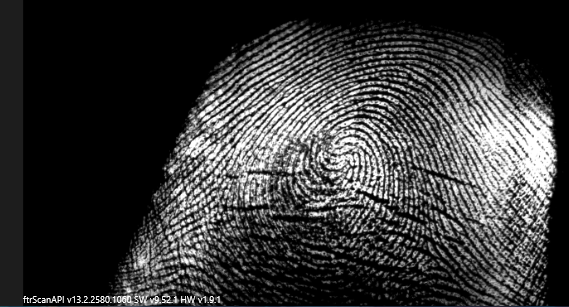deltas: (410, 228, 454, 274), (196, 186, 235, 232)
nucleo: (317, 121, 367, 176)
